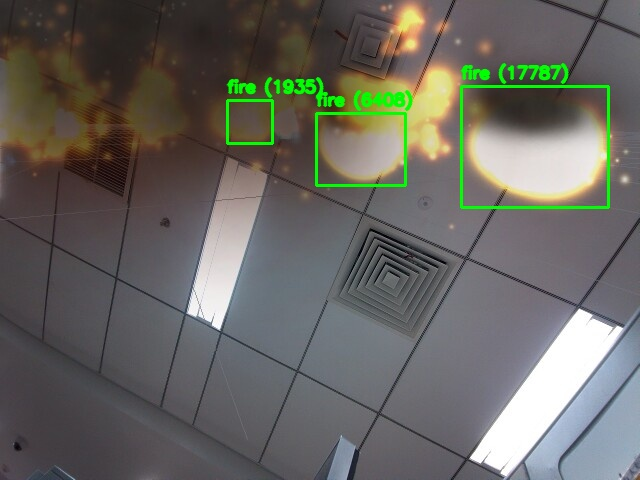fire: (461, 86, 608, 207), (316, 113, 405, 185), (227, 100, 272, 143)
